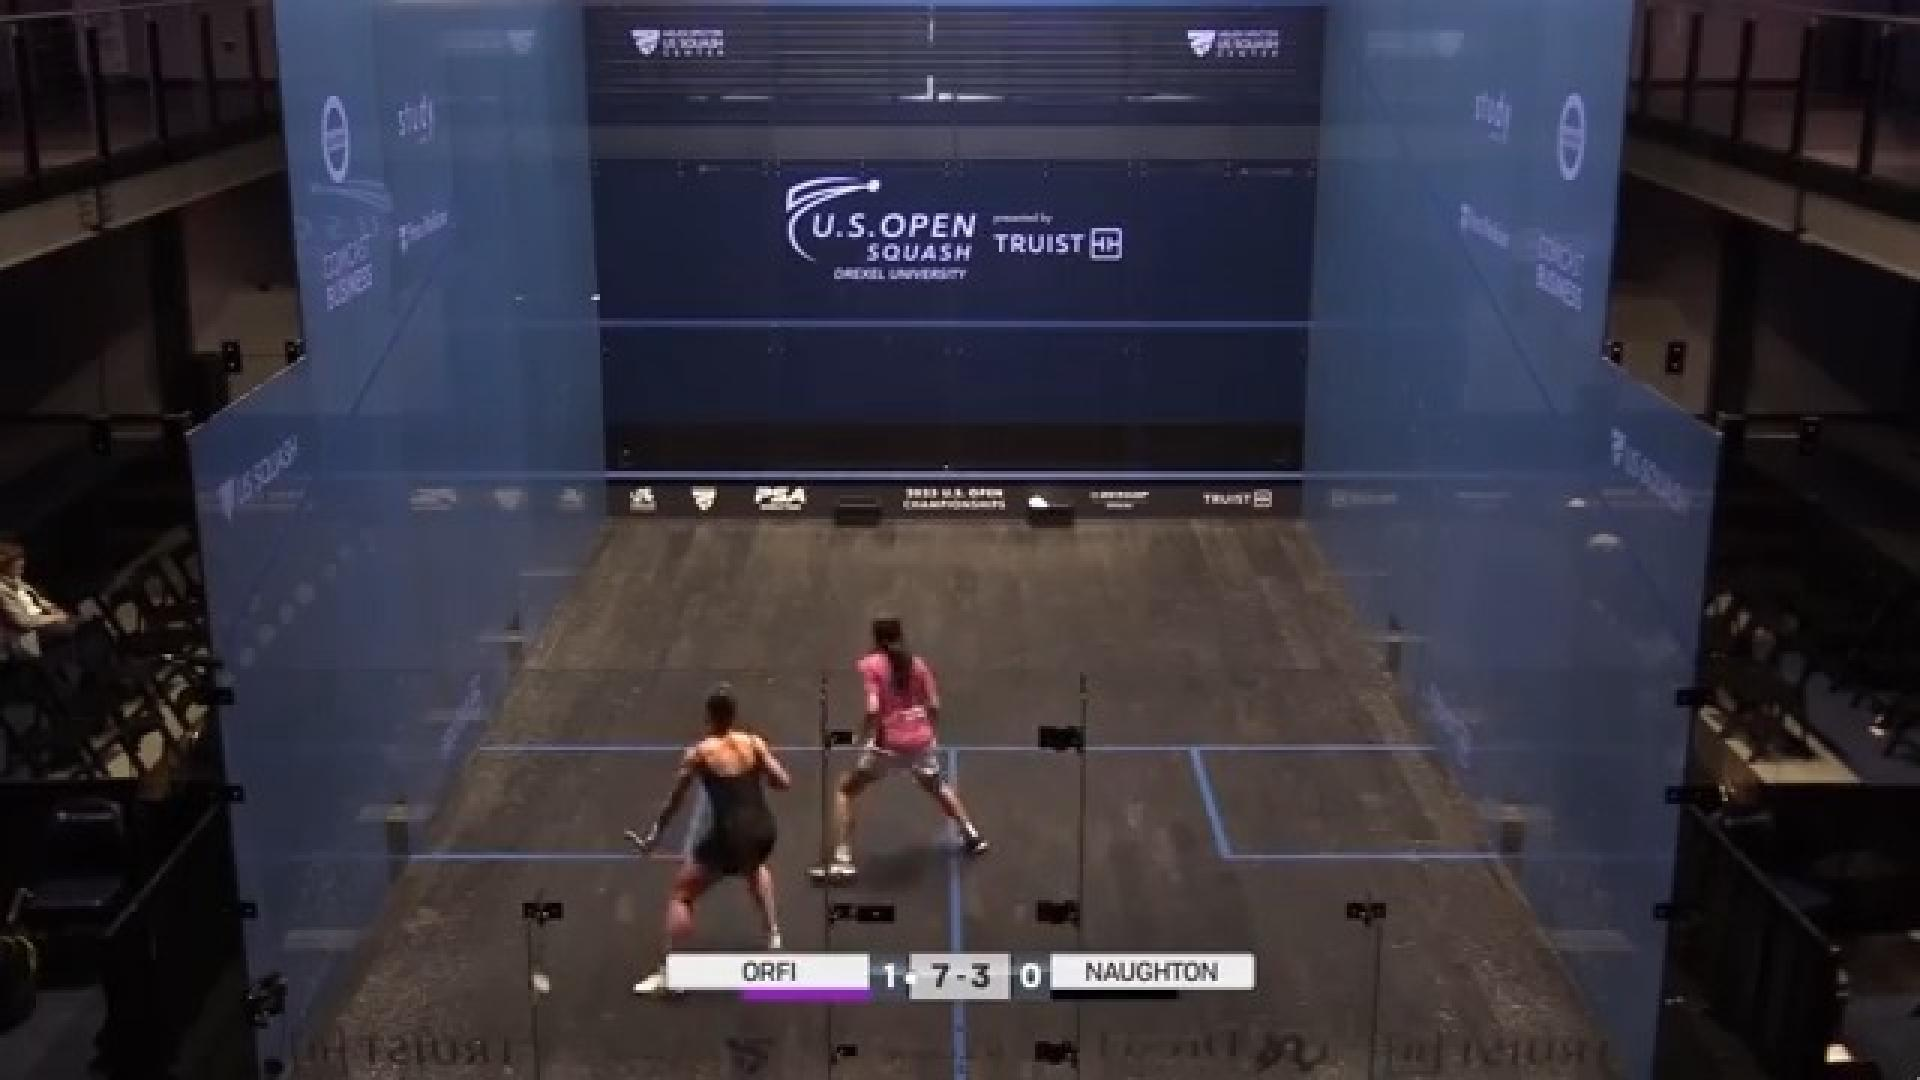Squash-Ball: (582, 282, 616, 314)
